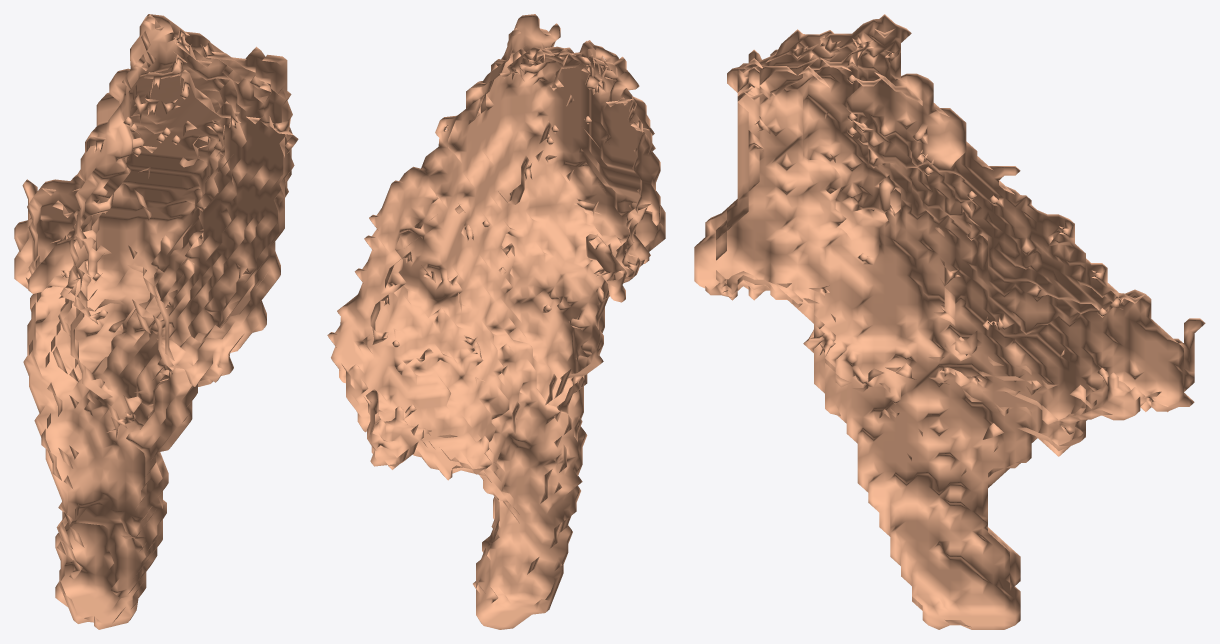
File: osteocyte_38.glb
The picture shows the model from 3 angles, left to right: view 1: azimuth 30°, elevation 25°; view 2: azimuth 150°, elevation 25°; view 3: azimuth 270°, elevation 25°; orthographic projection. The views are drawn at different scales.
Visible parts, largest first — view 1: osteocyte_38; view 2: osteocyte_38; view 3: osteocyte_38.
Boxes of the visible parts, box(x1,y1,x2,y2) form: osteocyte_38: box(14, 14, 298, 629); osteocyte_38: box(327, 14, 665, 629); osteocyte_38: box(694, 14, 1205, 629).
Size of the model in its own units: 13 by 29.85 by 22.63.
